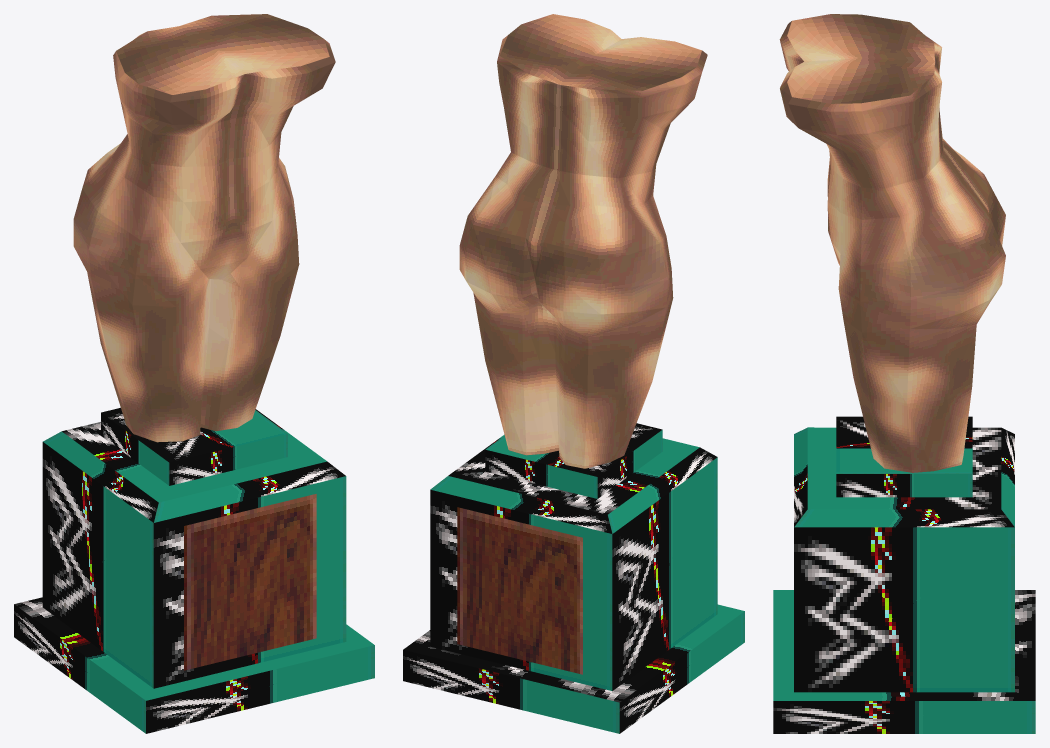
Rendered from ps2_save-icons_wwe-here-comes-the-pain.glb.
The picture shows the model from 3 angles, left to right: view 1: azimuth 30°, elevation 25°; view 2: azimuth 150°, elevation 25°; view 3: azimuth 270°, elevation 25°; orthographic projection. The views are drawn at different scales.
Visible parts, largest first — view 1: dmy.ico; view 2: dmy.ico; view 3: dmy.ico.
Boxes of the visible parts, x1=… form: dmy.ico: x1=14, y1=14, x2=374, y2=733; dmy.ico: x1=403, y1=14, x2=744, y2=733; dmy.ico: x1=773, y1=14, x2=1035, y2=733.
Size of the model in its own units: 1.94 by 5.07 by 1.94.
1 material, 1 textured.
